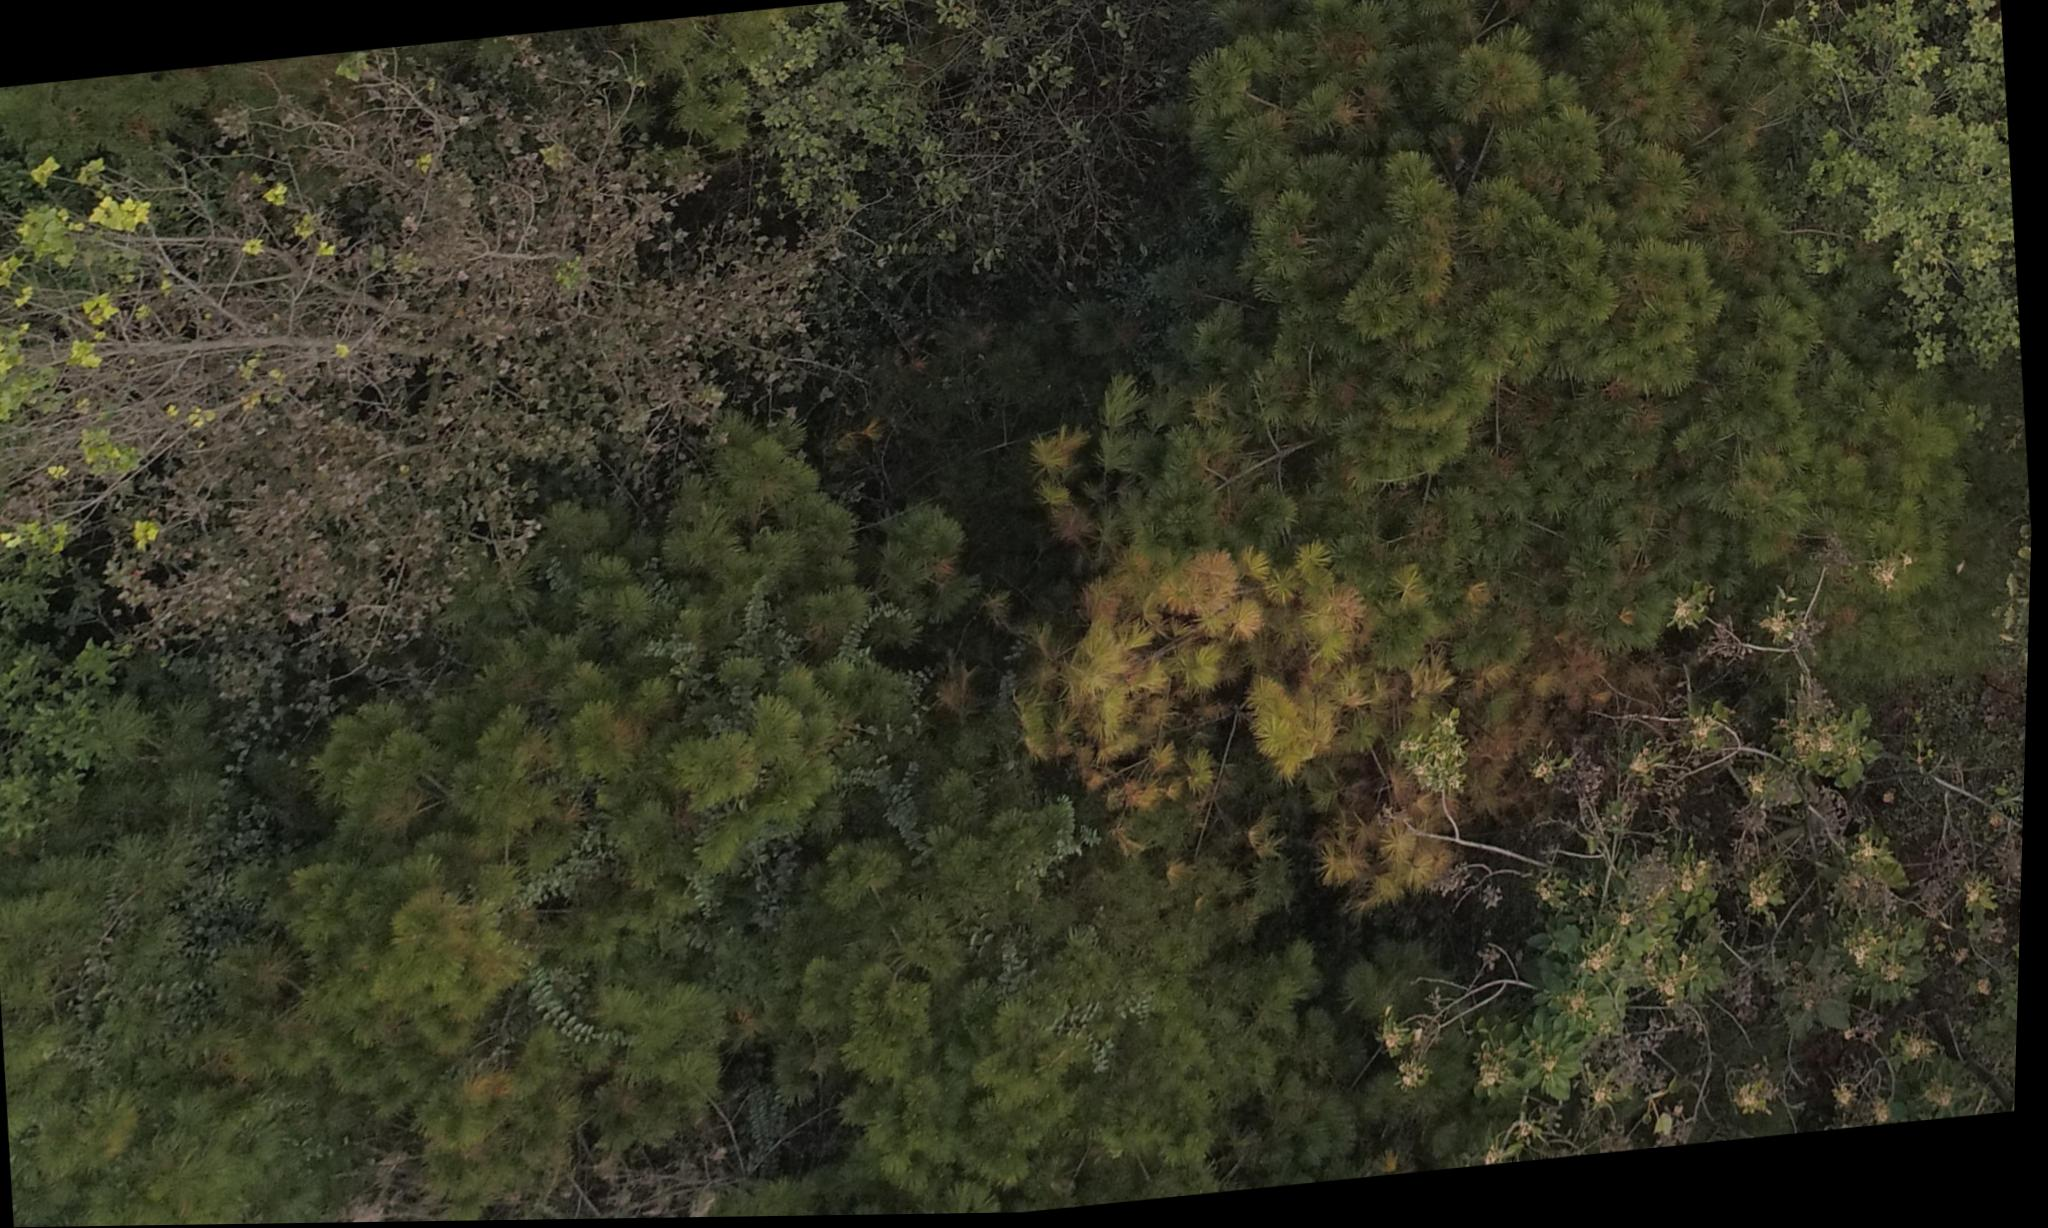light: (1039, 490, 1607, 930)
